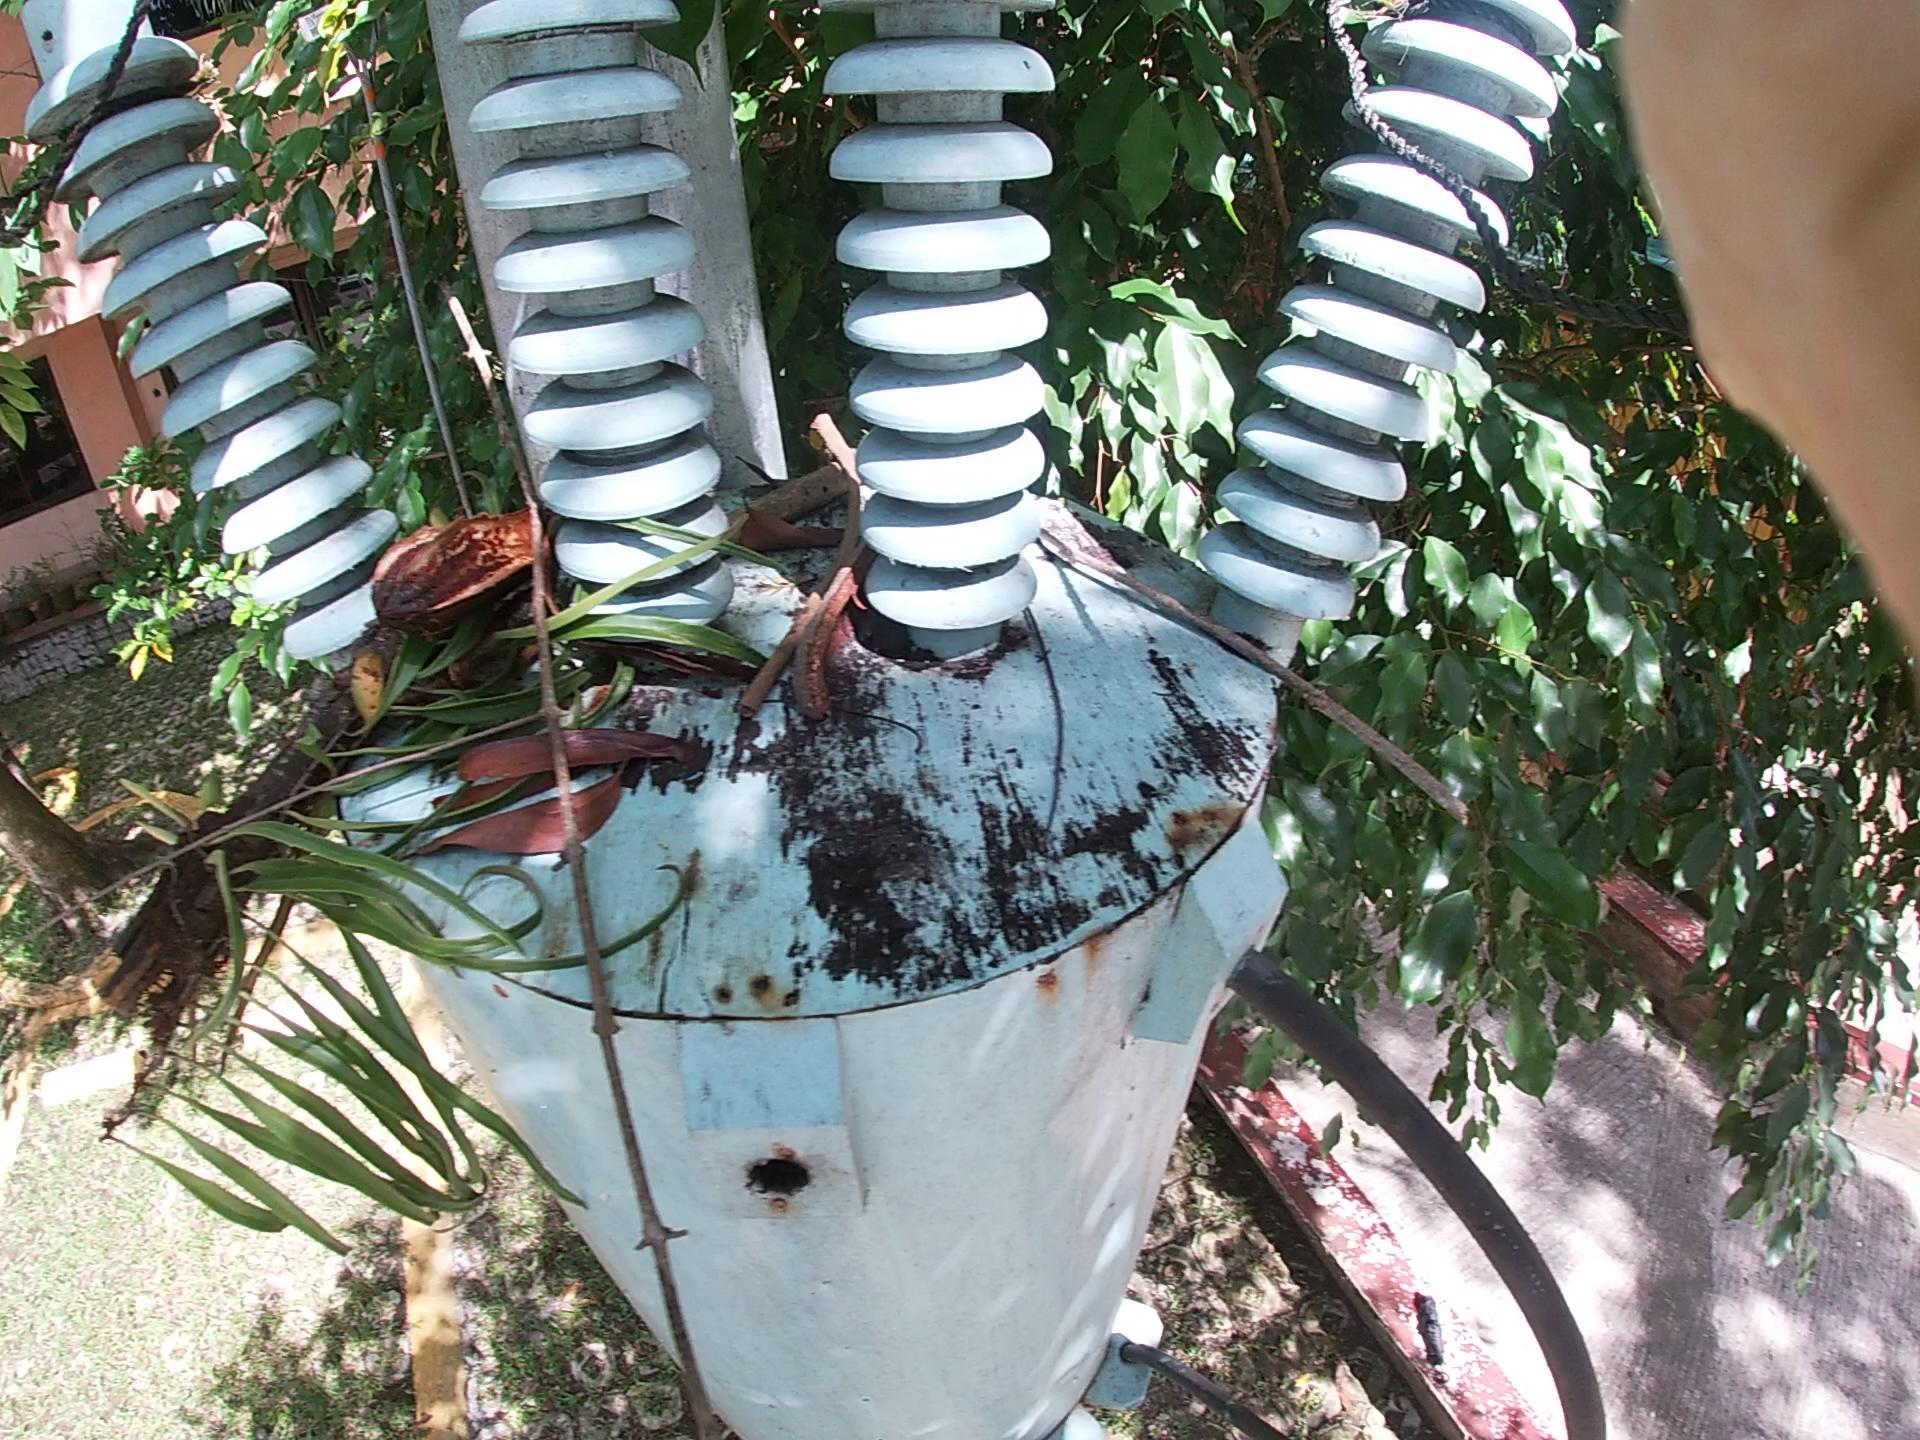branch with leaves: (163, 374, 965, 883)
leaf: (358, 666, 658, 892)
mahogany fruit: (741, 446, 909, 800), (348, 445, 547, 653)
tree branch: (831, 402, 1479, 821), (499, 365, 692, 1379), (751, 404, 859, 805)
